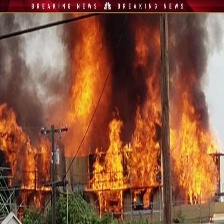fire: (1, 98, 224, 214), (74, 17, 108, 102)
smoke: (2, 13, 214, 102)
